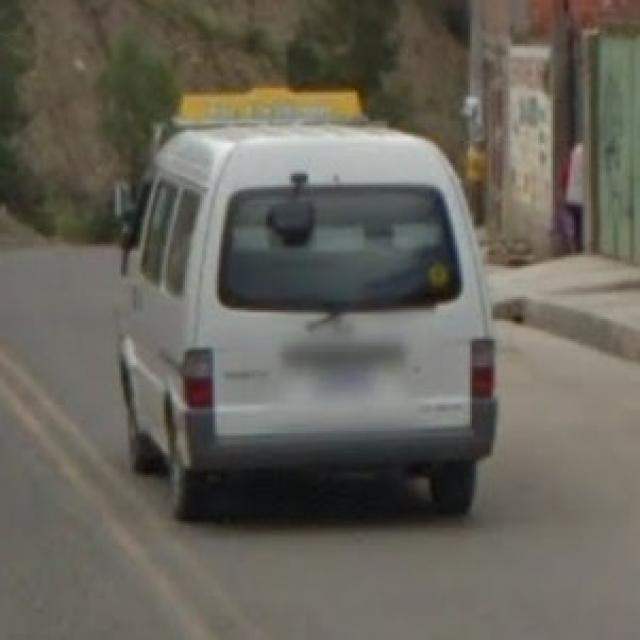cars: (118, 123, 499, 514)
